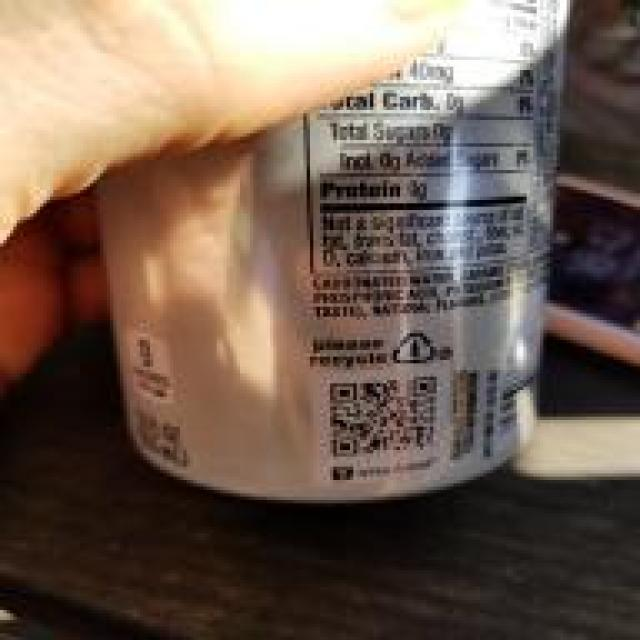qr_code: (329, 374, 438, 458)
